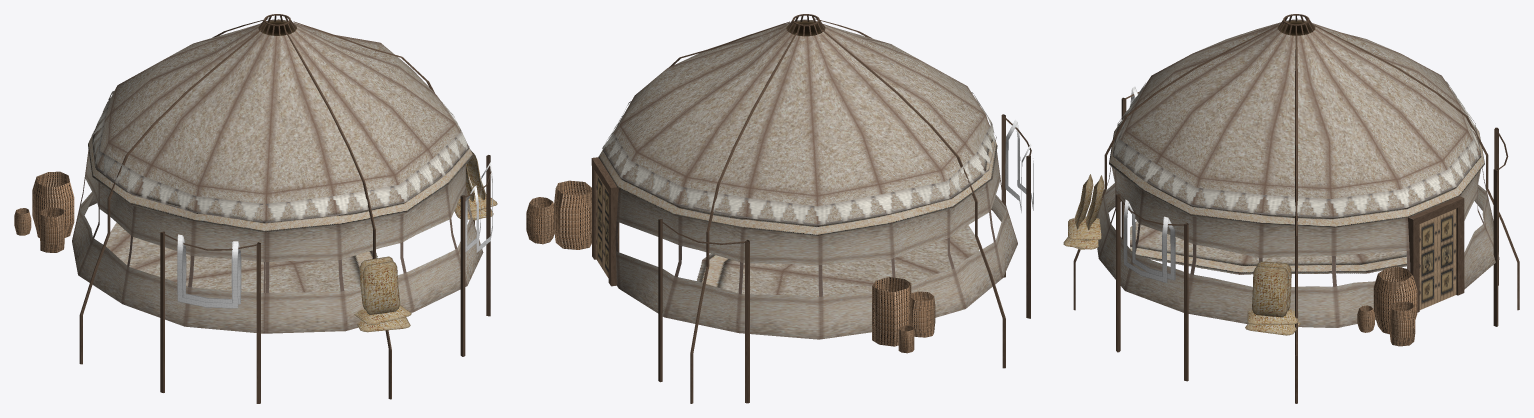
File: step_house_01_02.dae
3 renders of one model, left to right at view 1: azimuth 30°, elevation 25°; view 2: azimuth 150°, elevation 25°; view 3: azimuth 270°, elevation 25°, orthographic. The views are drawn at different scales.
Visible parts, largest first — view 1: Basket-Group; view 2: Basket-Group; view 3: Basket-Group.
Boxes of the visible parts, <box> form: Basket-Group: <box>14,14,497,403</box>; Basket-Group: <box>526,14,1033,403</box>; Basket-Group: <box>1063,14,1519,403</box>.
Size of the model in its own units: 18.19 by 17.63 by 12.38.
